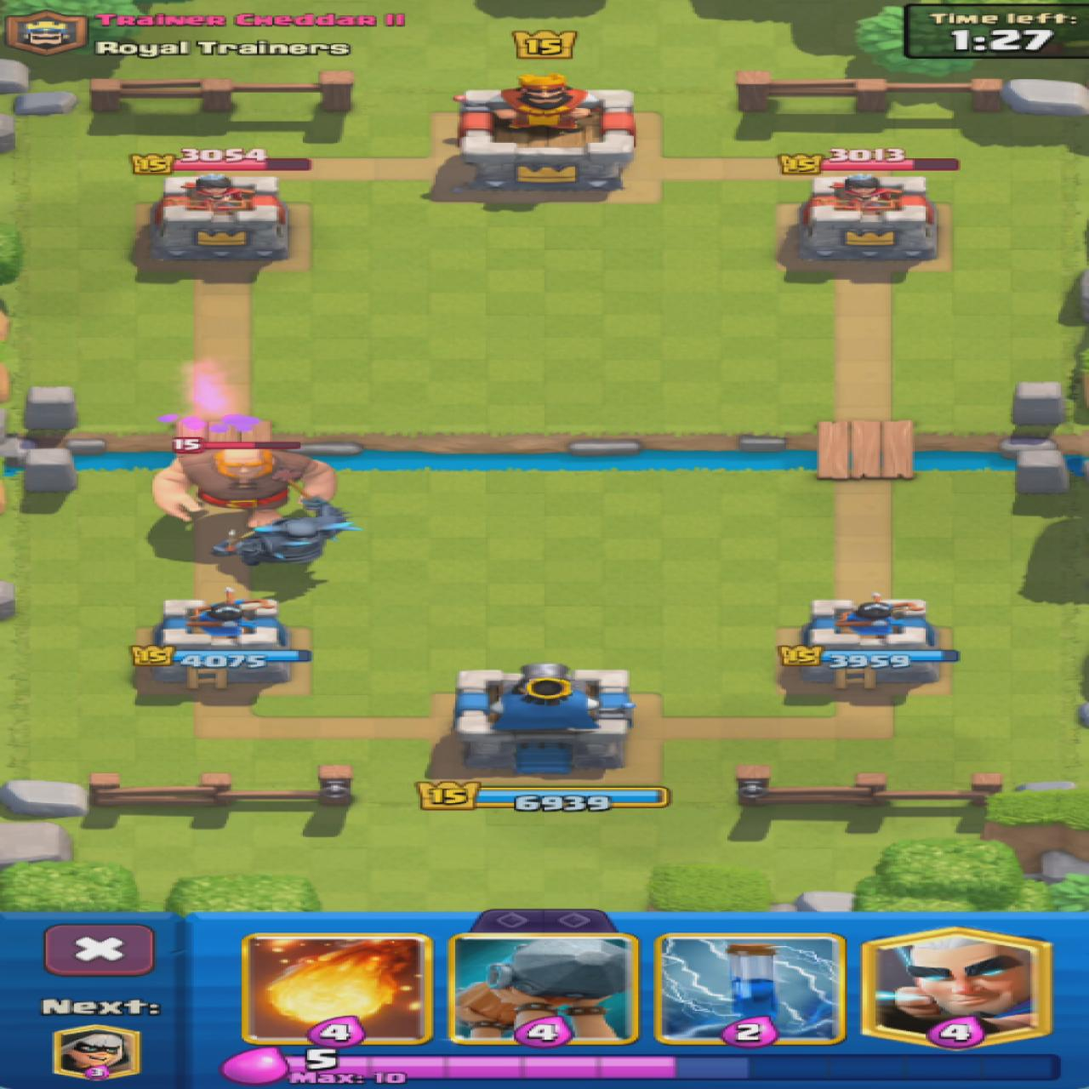Enemy-Giant: (155, 450, 333, 527)
Enemy-KingTower: (457, 77, 634, 192)
Enemy-PrincessTower: (799, 174, 937, 262), (152, 173, 287, 258)
